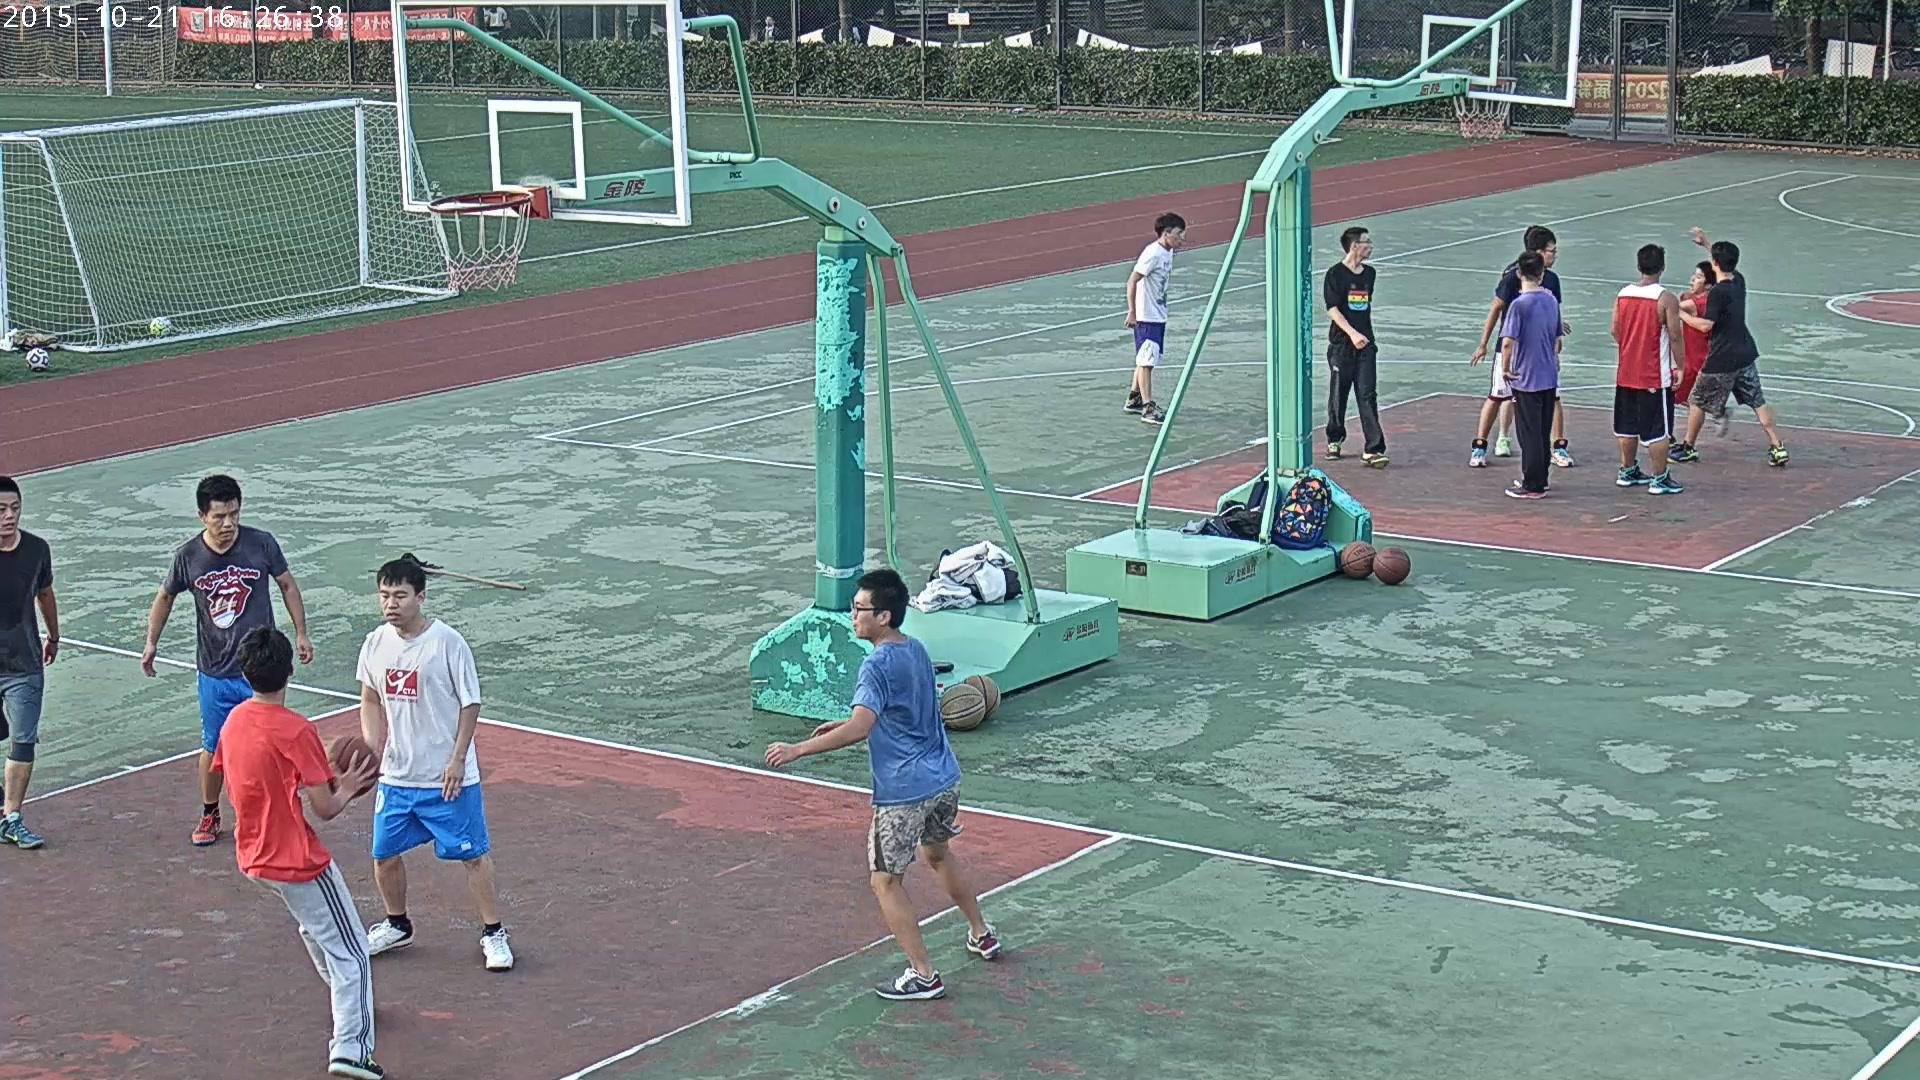face: (379, 580, 414, 625), (205, 500, 238, 541), (851, 588, 872, 637), (0, 492, 19, 534), (1545, 240, 1557, 267), (1690, 266, 1703, 293), (1170, 226, 1183, 247), (1361, 232, 1372, 256), (1709, 250, 1715, 270), (1540, 262, 1544, 283), (766, 16, 772, 25)
